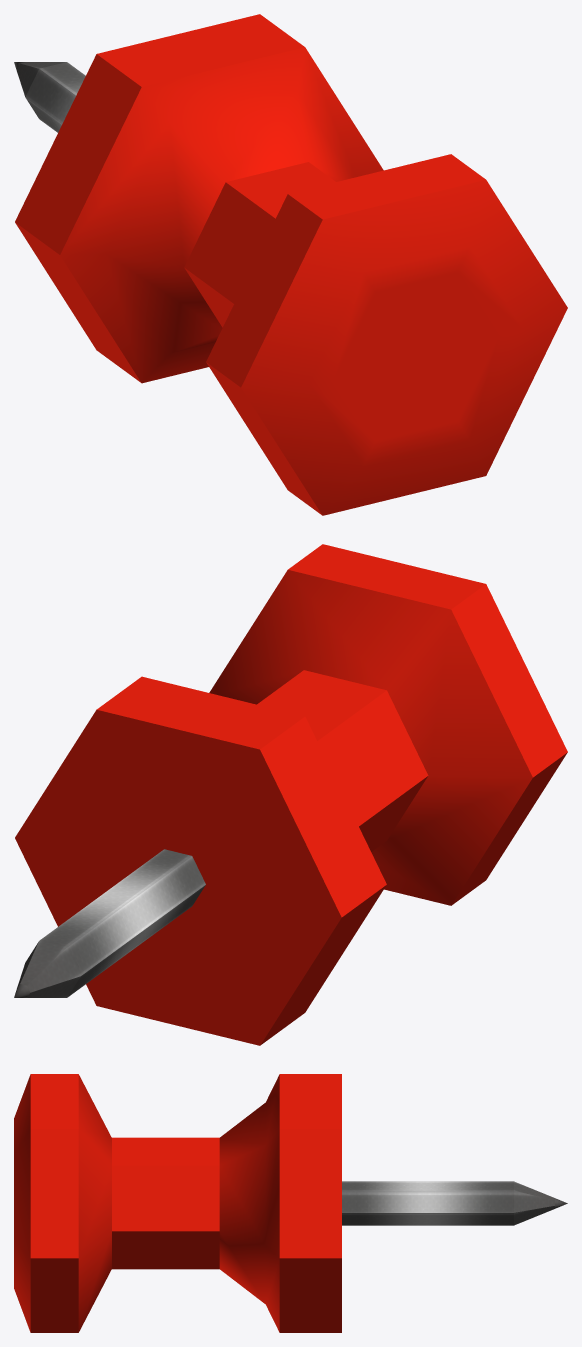
File: Tack_C.FBX
3 renders of one model, top to bottom at view 1: azimuth 30°, elevation 25°; view 2: azimuth 150°, elevation 25°; view 3: azimuth 270°, elevation 25°, orthographic. The views are drawn at different scales.
Parts seen in each view (by area): view 1: Tack; view 2: Tack; view 3: Tack.
Part boxes in pixels (<box>): Tack: <box>14,14,567,515</box>; Tack: <box>14,544,567,1045</box>; Tack: <box>14,1074,567,1332</box>.
Bounding box in the file's own units: 6.28 × 5.43 × 13.38.
